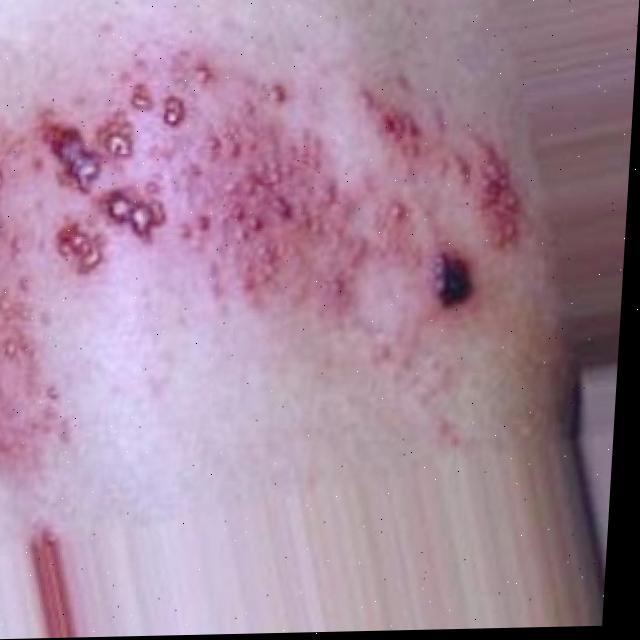Shingles: (0, 40, 516, 465)
